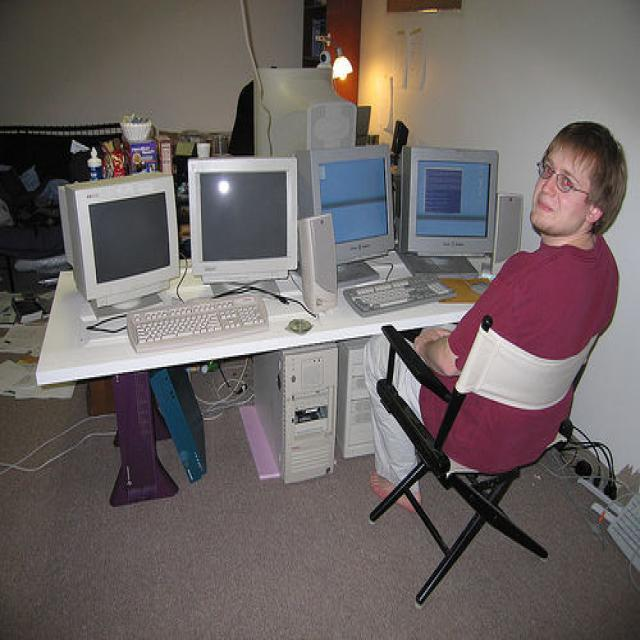chair: (366, 315, 600, 610)
person: (369, 120, 630, 513)
tvmonitor: (56, 170, 180, 322), (283, 143, 394, 291), (187, 155, 299, 298), (392, 145, 501, 280), (253, 64, 357, 158)
